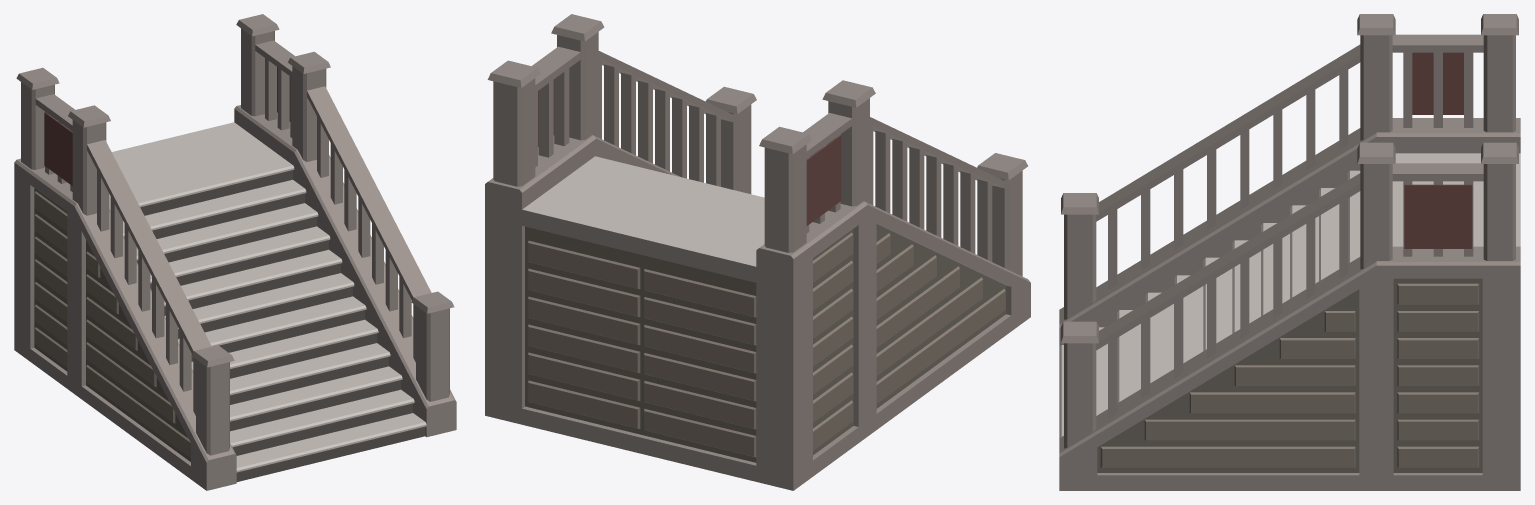
The model's file is stage2_grand_stair_flight_between_levels.glb.
The picture shows the model from 3 angles, left to right: view 1: azimuth 30°, elevation 25°; view 2: azimuth 150°, elevation 25°; view 3: azimuth 270°, elevation 25°; orthographic projection. The views are drawn at different scales.
Parts seen in each view (by area): view 1: grand-stair; view 2: grand-stair; view 3: grand-stair.
Boxes of the visible parts, <box> form: grand-stair: <box>14,14,456,490</box>; grand-stair: <box>485,14,1030,490</box>; grand-stair: <box>1059,14,1520,490</box>.
Bounding box in the file's own units: 3 × 3.18 × 4.
